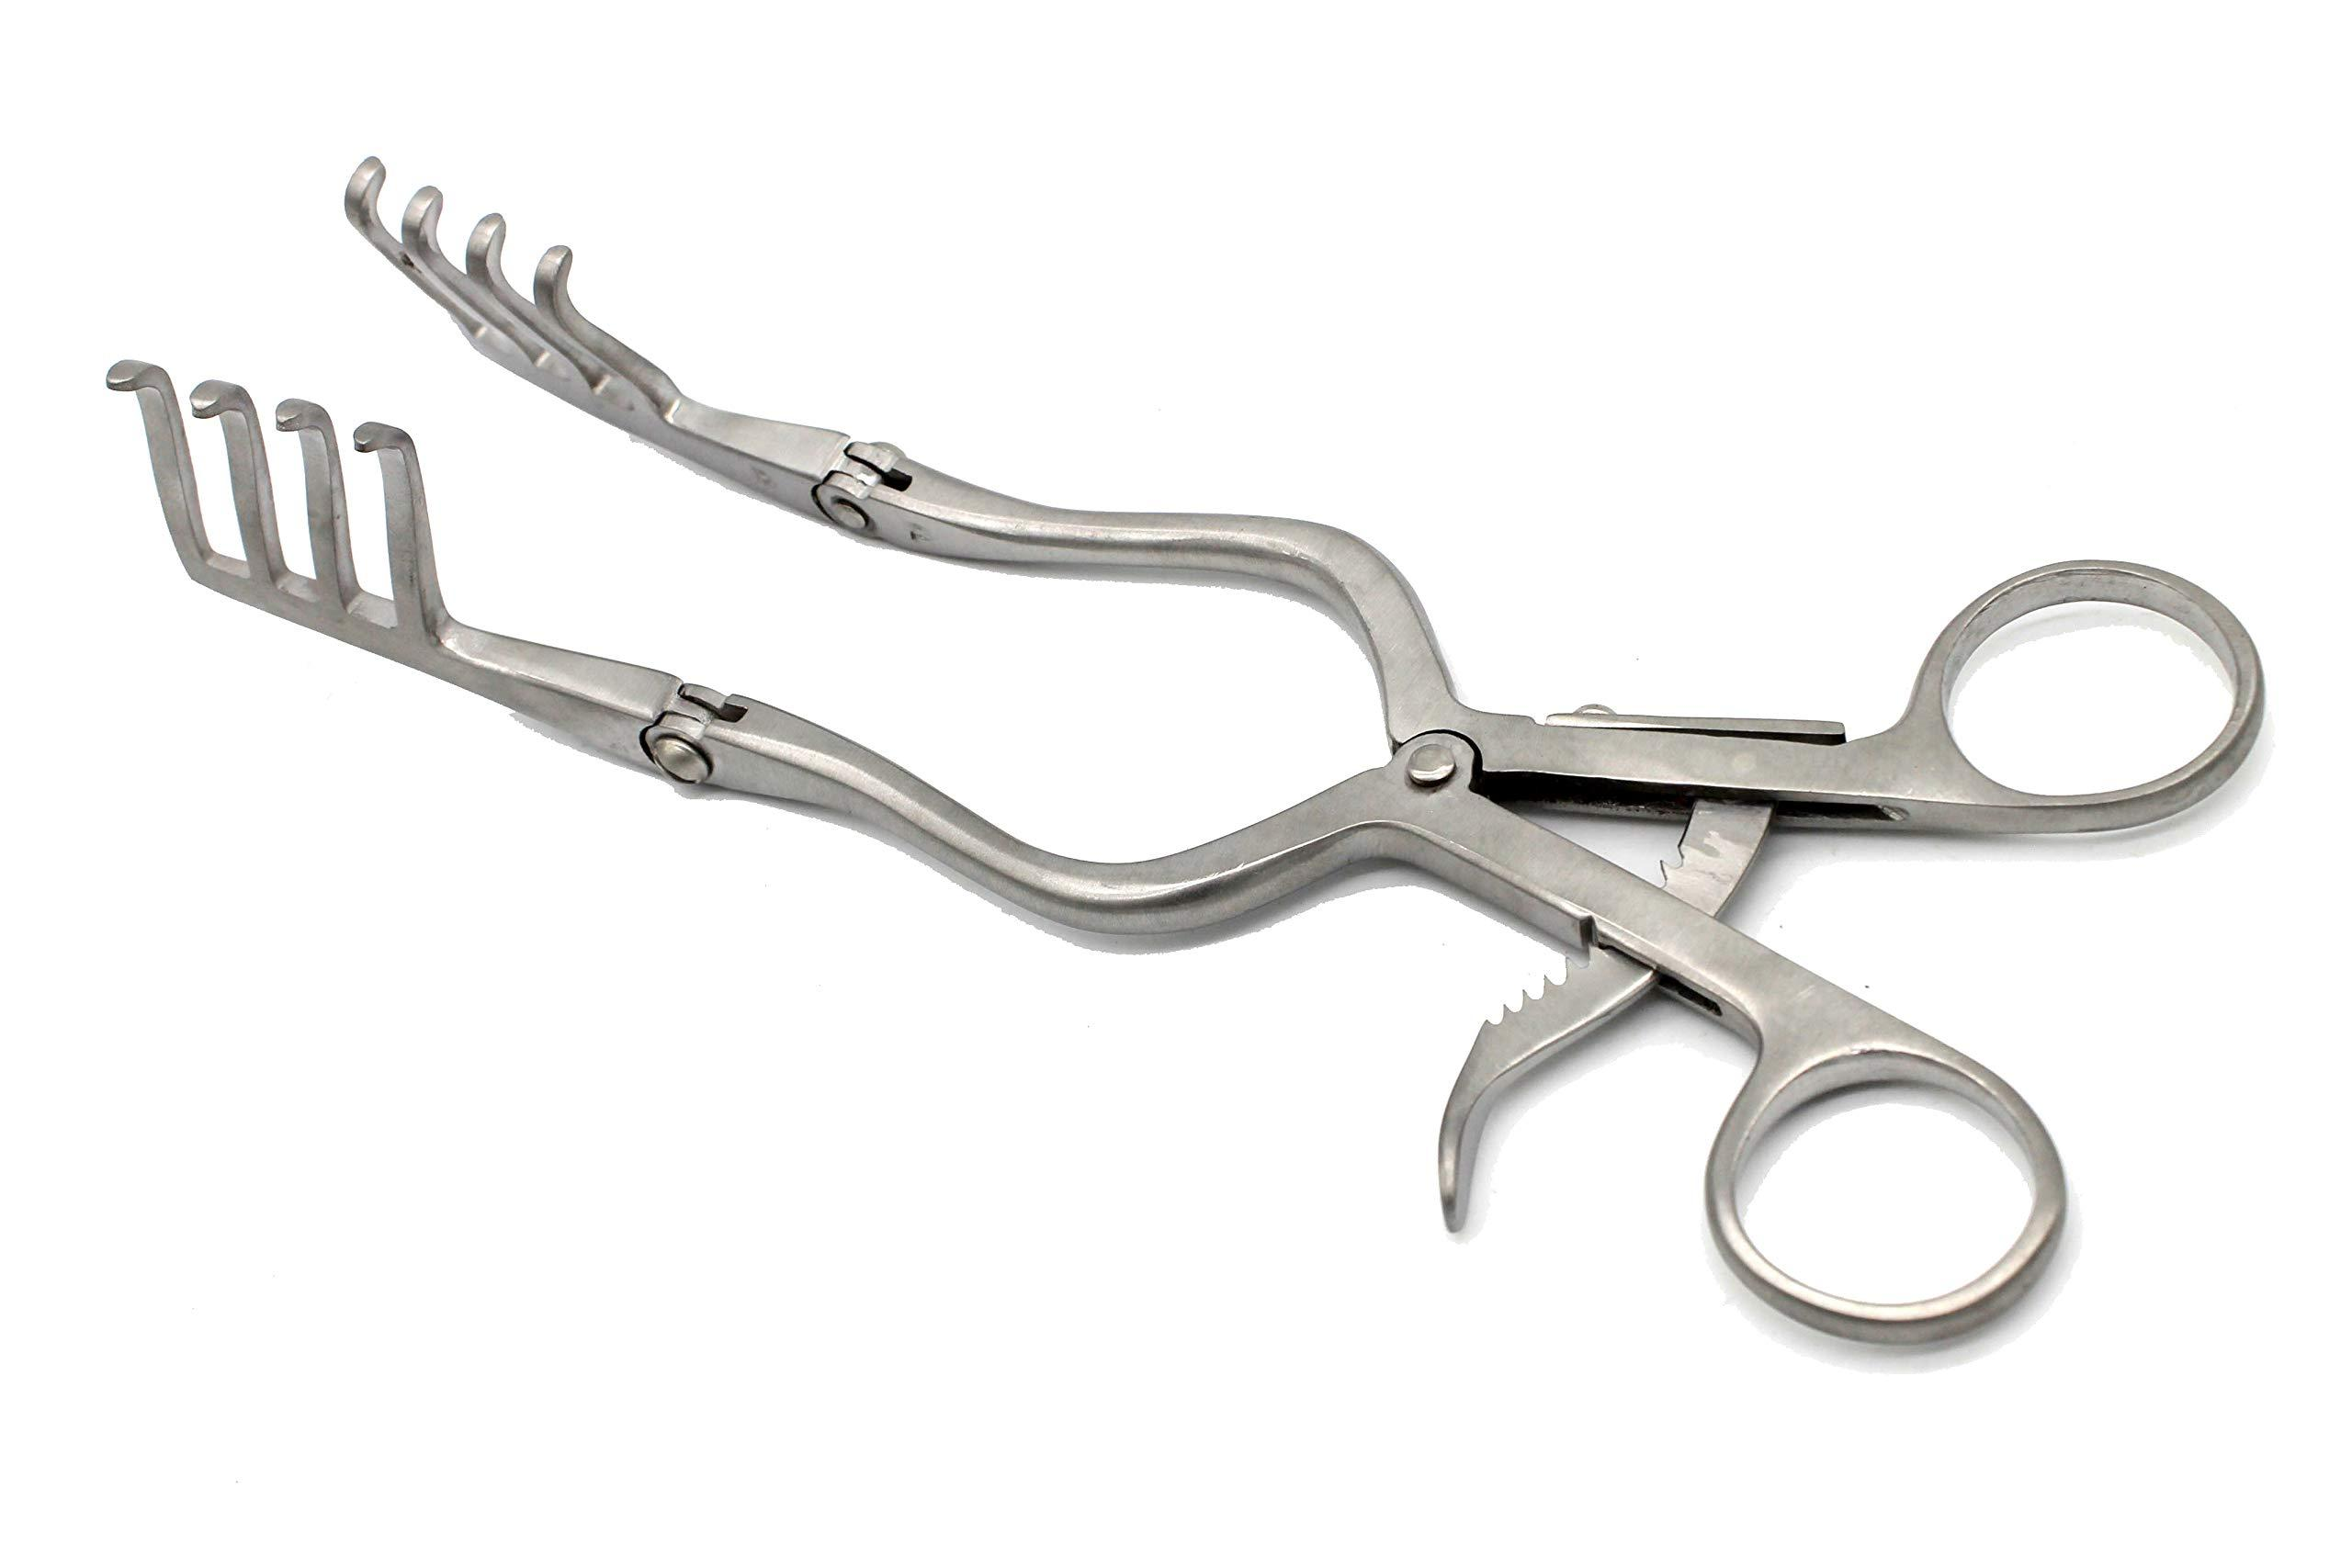Self Retractor: (89, 149, 2270, 1362)
